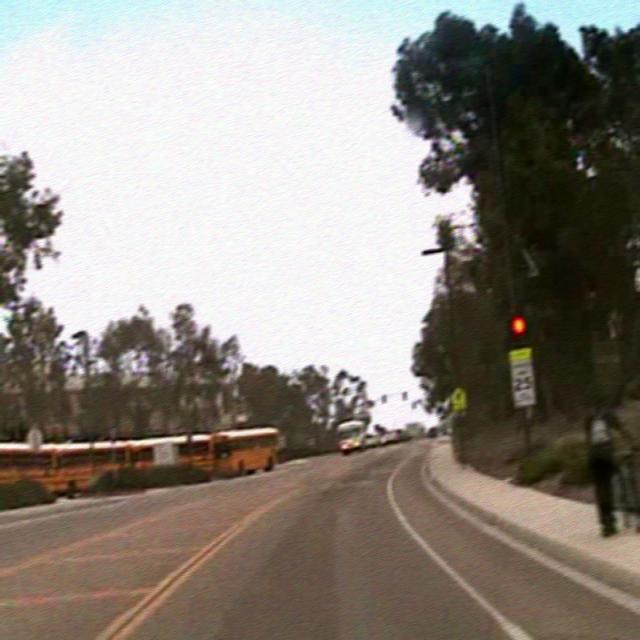speedLimit25: (508, 346, 536, 406)
